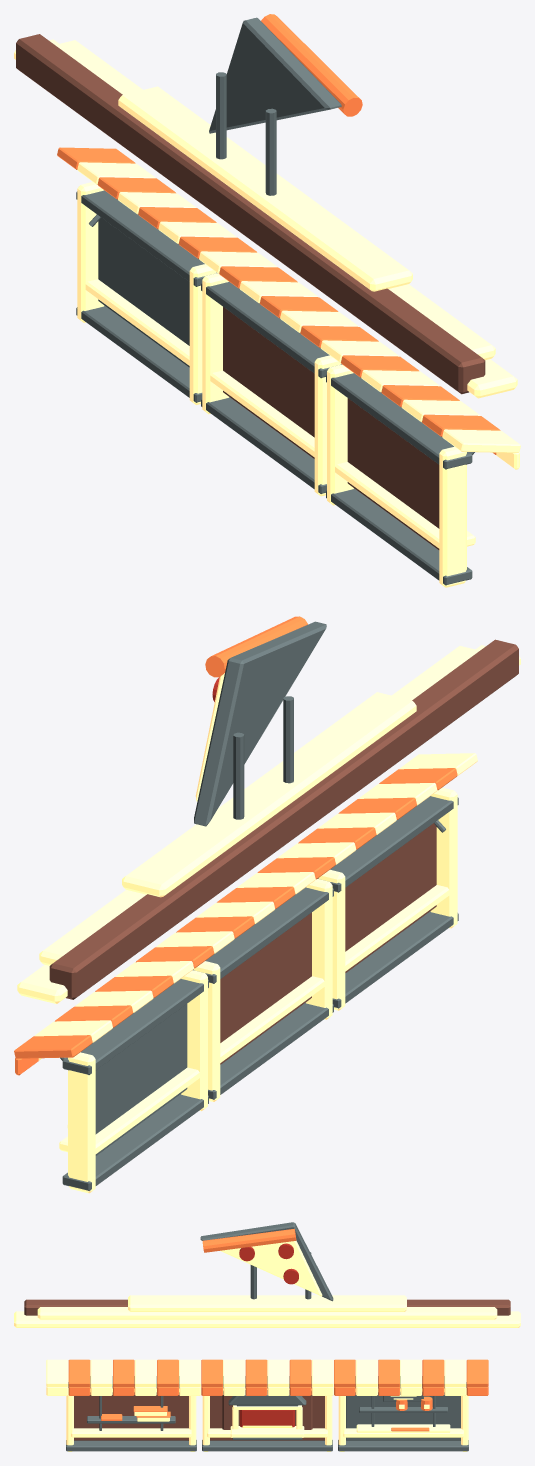
File: rain_city_slice_landmark.glb
3 views of the same model, one above another, from view 1: azimuth 30°, elevation 25°; view 2: azimuth 150°, elevation 25°; view 3: azimuth 270°, elevation 25° (orthographic). The views are drawn at different scales.
Visible parts, largest first — view 1: Slice_SL_CreamEnamel_Batch, Slice_RC_HarbourSteel_Batch, Slice_RC_RainBrick_Batch, Slice_SL_BakedEnamel_Batch; view 2: Slice_SL_CreamEnamel_Batch, Slice_RC_HarbourSteel_Batch, Slice_RC_RainBrick_Batch, Slice_SL_BakedEnamel_Batch; view 3: Slice_SL_CreamEnamel_Batch, Slice_RC_HarbourSteel_Batch, Slice_SL_BakedEnamel_Batch, Slice_RC_RainBrick_Batch, Slice_SL_PepperEnamel_Batch.
Part boxes in pixels (<box>): Slice_SL_CreamEnamel_Batch: <box>14,39,520,587</box>; Slice_RC_HarbourSteel_Batch: <box>76,17,474,585</box>; Slice_RC_RainBrick_Batch: <box>16,34,485,549</box>; Slice_SL_BakedEnamel_Batch: <box>57,14,500,454</box>; Slice_SL_CreamEnamel_Batch: <box>17,645,520,1193</box>; Slice_RC_HarbourSteel_Batch: <box>60,621,458,1190</box>; Slice_RC_RainBrick_Batch: <box>49,639,518,1064</box>; Slice_SL_BakedEnamel_Batch: <box>14,616,457,1075</box>; Slice_SL_CreamEnamel_Batch: <box>14,1240,520,1451</box>; Slice_RC_HarbourSteel_Batch: <box>66,1222,468,1451</box>; Slice_SL_BakedEnamel_Batch: <box>68,1228,488,1431</box>; Slice_RC_RainBrick_Batch: <box>24,1299,510,1440</box>; Slice_SL_PepperEnamel_Batch: <box>239,1243,298,1427</box>.
Size of the model in its own units: 1.52 by 7.34 by 14.9.
